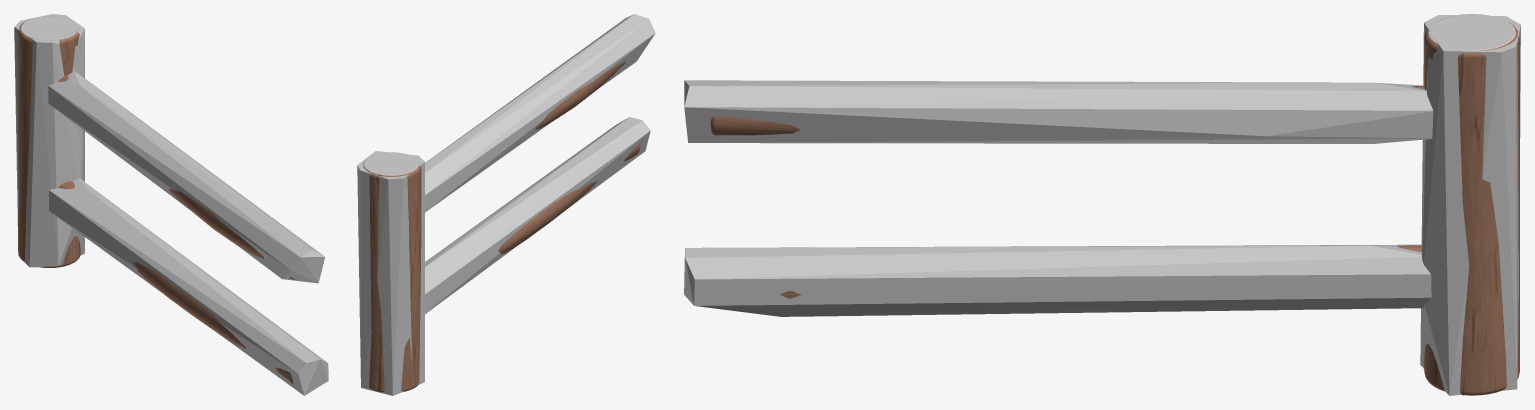
The model's file is SM_WoodenFence_2m_03.fbx.
3 renders of one model, left to right at view 1: azimuth 30°, elevation 25°; view 2: azimuth 150°, elevation 25°; view 3: azimuth 270°, elevation 25°, orthographic. The views are drawn at different scales.
Parts seen in each view (by area): view 1: SM_WoodenFence_2m_03_ConvexHulls, SM_WoodenFence_2m_03; view 2: SM_WoodenFence_2m_03_ConvexHulls, SM_WoodenFence_2m_03; view 3: SM_WoodenFence_2m_03_ConvexHulls, SM_WoodenFence_2m_03.
Part boxes in pixels (box(x1,y1,x2,y2)): SM_WoodenFence_2m_03_ConvexHulls: box(14, 14, 328, 395); SM_WoodenFence_2m_03: box(18, 16, 294, 383); SM_WoodenFence_2m_03_ConvexHulls: box(357, 14, 655, 395); SM_WoodenFence_2m_03: box(363, 61, 640, 392); SM_WoodenFence_2m_03_ConvexHulls: box(684, 14, 1520, 395); SM_WoodenFence_2m_03: box(710, 14, 1519, 395).
Size of the model in its own units: 24.71 by 213 by 97.05.
2 materials, 1 textured.
